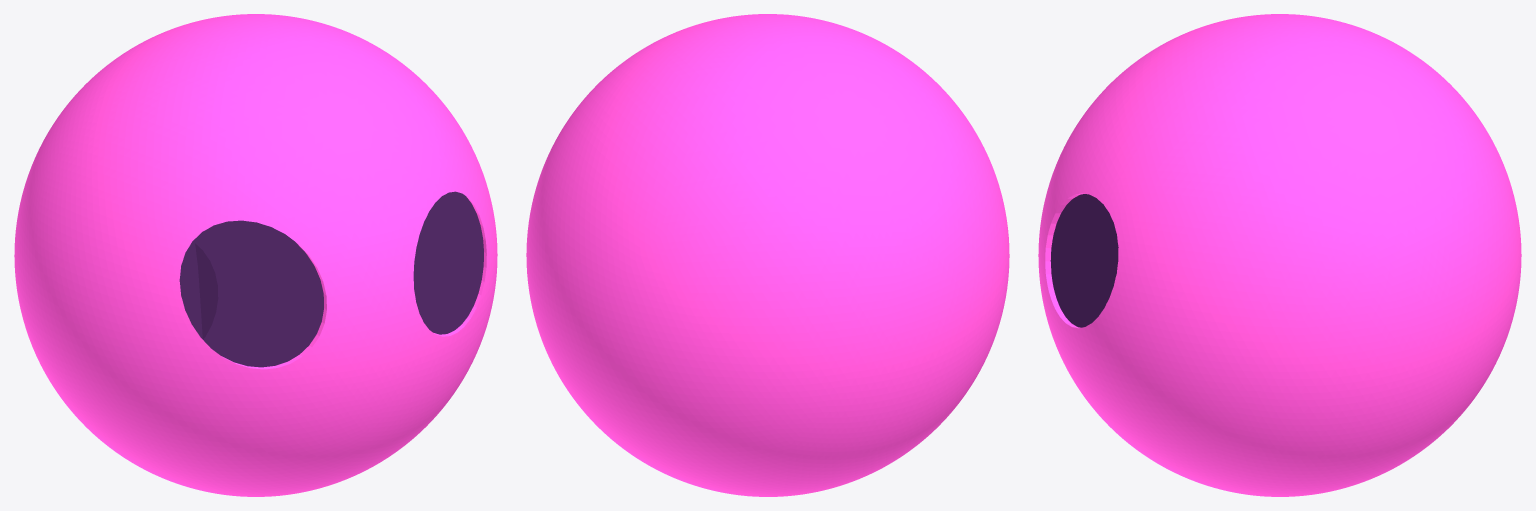
File: loco.glb
3 renders of one model, left to right at view 1: azimuth 30°, elevation 25°; view 2: azimuth 150°, elevation 25°; view 3: azimuth 270°, elevation 25°, orthographic.
Visible parts, largest first — view 1: Icosphere, Eyes; view 2: Icosphere; view 3: Icosphere.
Part boxes in pixels (x1=…): Icosphere: x1=14, y1=14, x2=497, y2=496; Eyes: x1=195, y1=243, x2=218, y2=339; Icosphere: x1=526, y1=14, x2=1009, y2=496; Icosphere: x1=1038, y1=14, x2=1521, y2=496.
Size of the model in its own units: 2 by 2 by 2.
